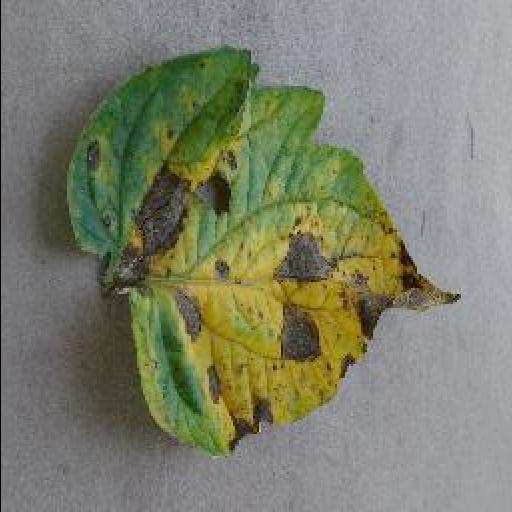disease_tomato: (64, 44, 464, 458)
